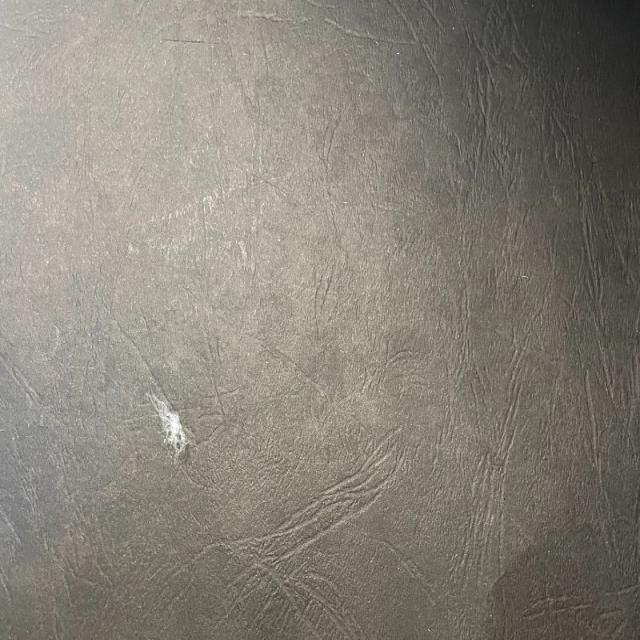feather: (146, 386, 188, 461)
